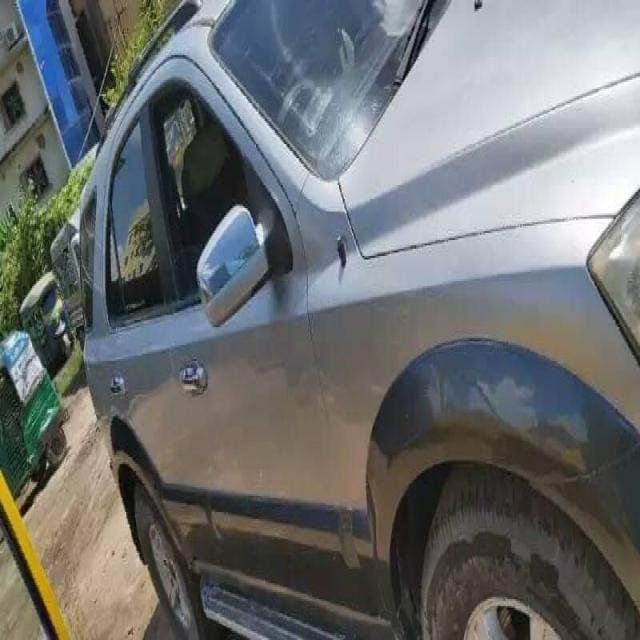silver: (93, 0, 640, 588)
